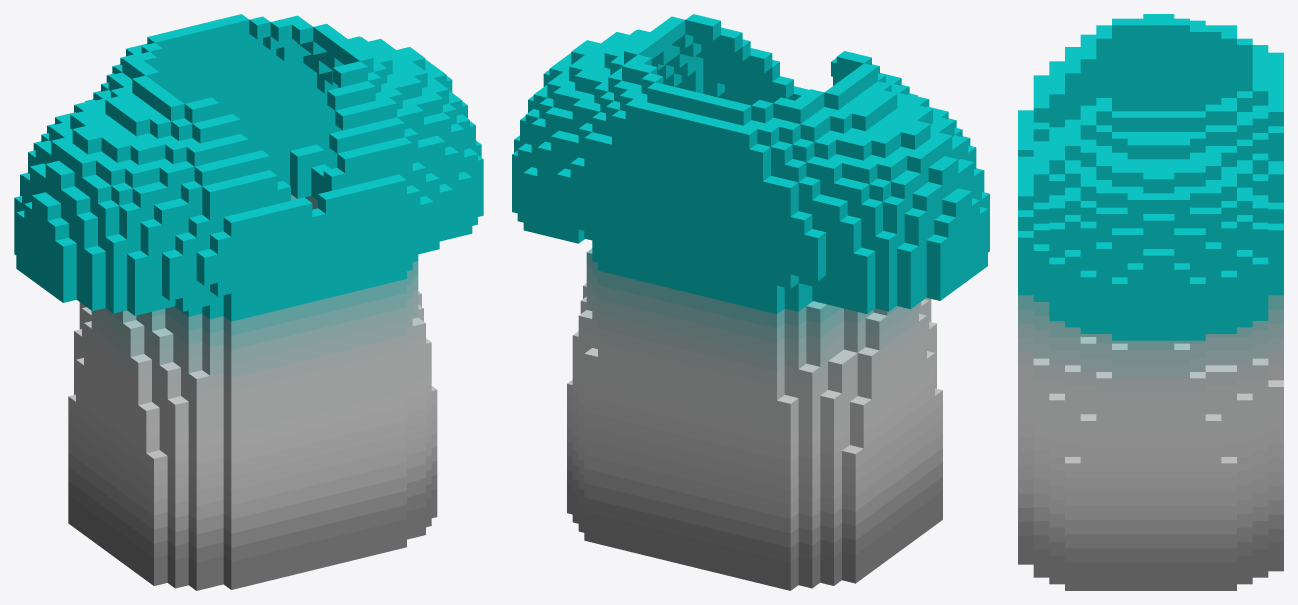
3 renders of one model, left to right at view 1: azimuth 30°, elevation 25°; view 2: azimuth 150°, elevation 25°; view 3: azimuth 270°, elevation 25°, orthographic.
Bounding box in the file's own units: 1.55 × 1.6 × 0.85.
